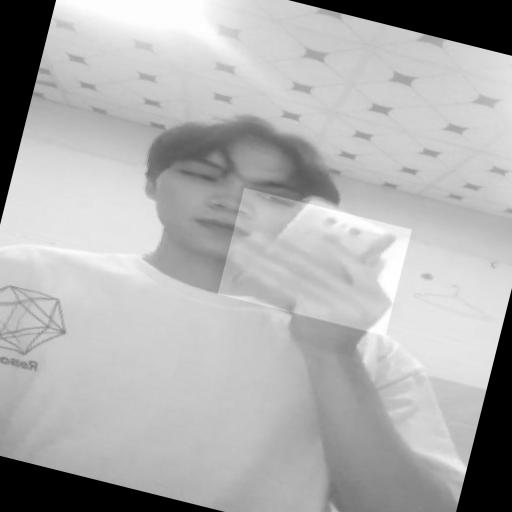phone: (275, 196, 395, 279), (236, 273, 291, 311)
